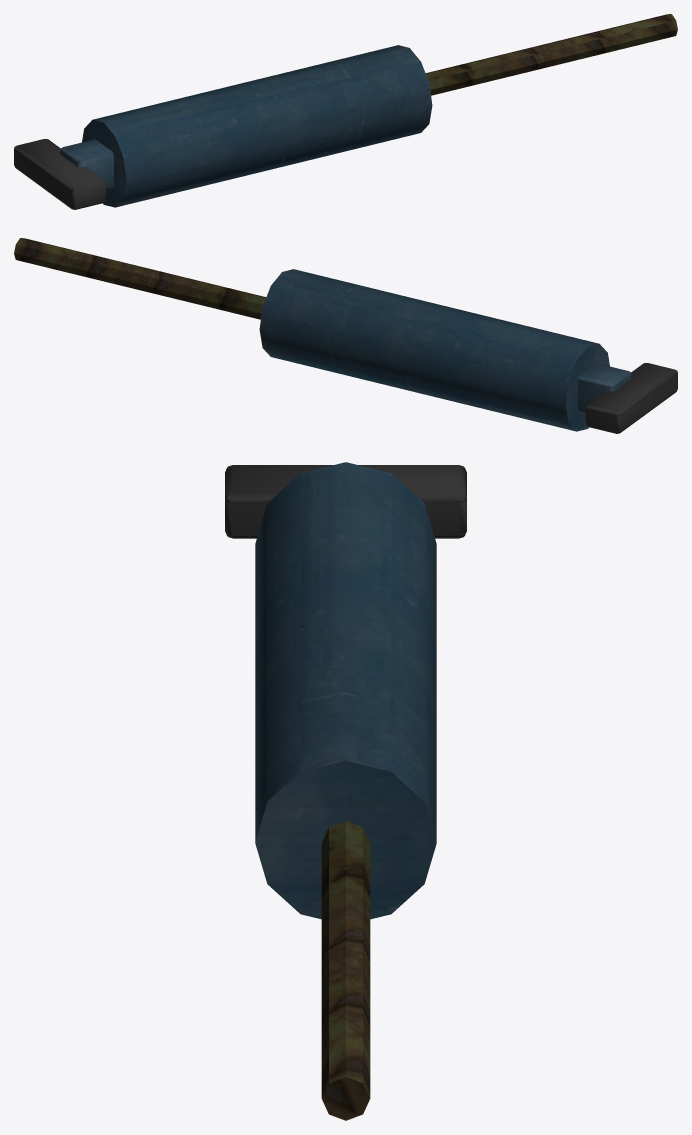
Rendered from held_tool_jackhammer.glb.
3 views of the same model, one above another, from view 1: azimuth 30°, elevation 25°; view 2: azimuth 150°, elevation 25°; view 3: azimuth 270°, elevation 25° (orthographic). The views are drawn at different scales.
Visible parts, largest first — view 1: cyl, cyl.001, box, box.001; view 2: cyl, cyl.001, box, box.001; view 3: cyl, cyl.001, box.
Part boxes in pixels (left/top/right/bottom): cyl: left=82, top=45, right=432, bottom=207; cyl.001: left=426, top=14, right=677, bottom=95; box: left=14, top=139, right=106, bottom=209; box.001: left=60, top=139, right=113, bottom=189; cyl: left=259, top=269, right=609, bottom=431; cyl.001: left=14, top=238, right=265, bottom=319; box: left=585, top=363, right=677, bottom=433; box.001: left=578, top=363, right=631, bottom=413; cyl: left=255, top=462, right=436, bottom=919; cyl.001: left=321, top=821, right=370, bottom=1120; box: left=225, top=465, right=466, bottom=538.
Size of the model in its own units: 0.72 by 0.09 by 0.12.
3 materials, 2 textured.
